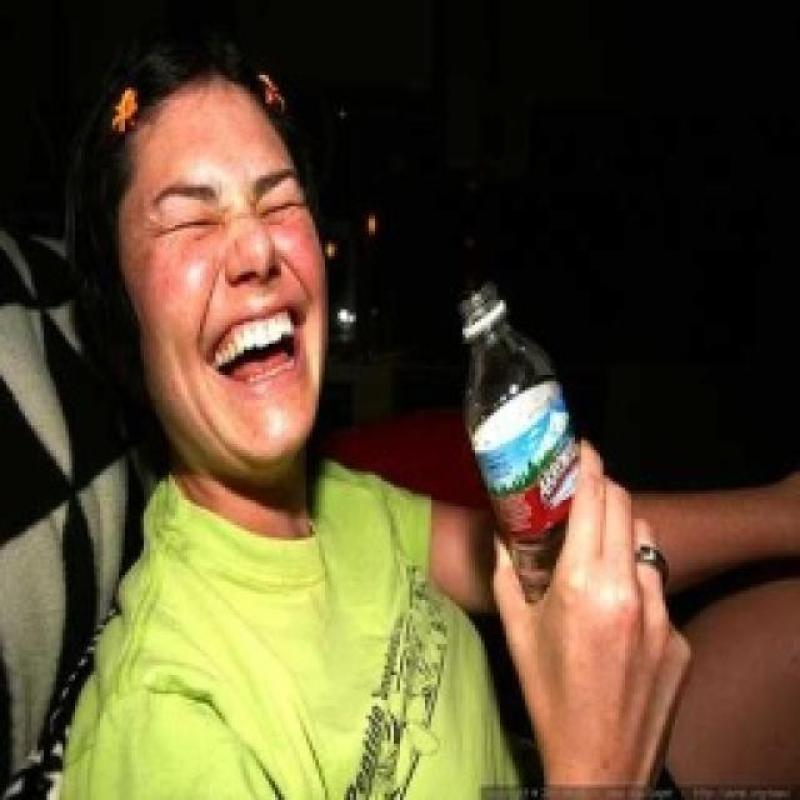botella: (456, 286, 585, 612)
